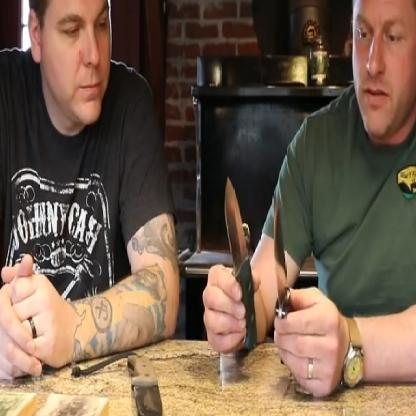knife: (267, 180, 336, 369), (196, 162, 258, 326)
